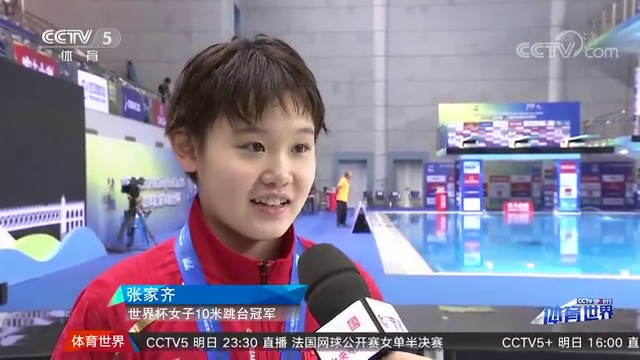face: (203, 103, 315, 236)
